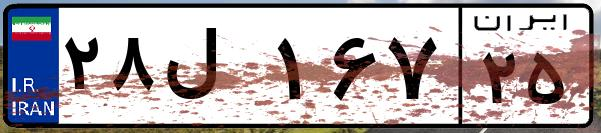1: (270, 28, 330, 110)
2: (57, 26, 110, 100), (475, 38, 525, 113)
5: (525, 38, 570, 115)
6: (330, 28, 385, 110)
7: (385, 28, 445, 110)
8: (110, 28, 158, 98)
ل: (158, 20, 270, 120)
